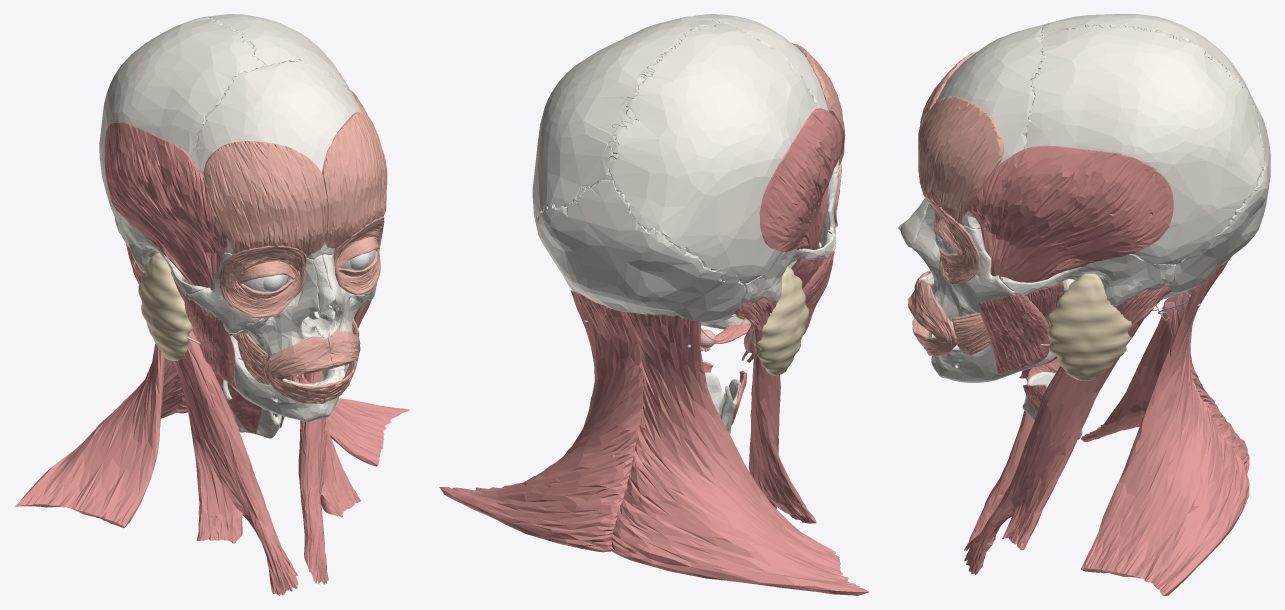
The model's file is modelD.glb.
3 views of the same model, side by side, from view 1: azimuth 30°, elevation 25°; view 2: azimuth 150°, elevation 25°; view 3: azimuth 270°, elevation 25° (orthographic). The views are drawn at different scales.
Visible parts, largest first — view 1: 颅骨·右顶骨, 颈肌·斜方肌降部(右), 咀嚼肌·颞肌(右), 面肌·额肌(右), 颈肌·胸锁乳突肌(右), 颅骨·额骨, 面肌·额肌(左), 颈肌·胸锁乳突肌(左), 面肌·口轮匝肌, 腺体·腮腺(右), 颅骨·左顶骨, 面肌·眼轮匝肌睑部(右) (+15 smaller); view 2: 颅骨·右顶骨, 颈肌·斜方肌降部(右), 颈肌·斜方肌降部(左), 颅骨·枕骨, 颅骨·左顶骨, 咀嚼肌·颞肌(右), 颈肌·胸锁乳突肌(右), 腺体·腮腺(右), 颅骨·额骨, 颅骨·右颞骨, 喉·甲状软骨, 面肌·额肌(右) (+2 smaller); view 3: 颅骨·左顶骨, 颈肌·斜方肌降部(左), 咀嚼肌·颞肌(左), 颈肌·胸锁乳突肌(左), 面肌·额肌(左), 颅骨·额骨, 腺体·腮腺(左), 颈肌·斜方肌降部(右), 颅骨·枕骨, 咀嚼肌·咬肌深部(左), 颅骨·左颞骨, 颅骨·右顶骨 (+12 smaller).
Boxes of the visible parts, x1,y1,x2,y2 form: 颅骨·右顶骨: (99, 17, 266, 219); 颈肌·斜方肌降部(右): (14, 328, 198, 528); 咀嚼肌·颞肌(右): (104, 122, 231, 335); 面肌·额肌(右): (203, 141, 327, 256); 颈肌·胸锁乳突肌(右): (126, 244, 298, 595); 颅骨·额骨: (190, 60, 362, 259); 面肌·额肌(左): (322, 111, 387, 249); 颈肌·胸锁乳突肌(左): (298, 371, 361, 584); 面肌·口轮匝肌: (262, 331, 360, 403); 腺体·腮腺(右): (138, 253, 192, 360); 颅骨·左顶骨: (198, 14, 359, 107); 面肌·眼轮匝肌睑部(右): (219, 245, 306, 318); 颅骨·右顶骨: (608, 22, 817, 283); 颈肌·斜方肌降部(右): (609, 312, 869, 595); 颈肌·斜方肌降部(左): (439, 290, 643, 552); 颅骨·枕骨: (535, 179, 745, 325); 颅骨·左顶骨: (532, 16, 718, 225); 咀嚼肌·颞肌(右): (759, 108, 841, 269); 颈肌·胸锁乳突肌(右): (733, 298, 816, 523); 腺体·腮腺(右): (750, 266, 809, 375); 颅骨·额骨: (693, 14, 839, 175); 颅骨·右颞骨: (733, 232, 834, 314); 喉·甲状软骨: (705, 372, 740, 433); 面肌·额肌(右): (791, 42, 845, 164); 颅骨·左顶骨: (1024, 24, 1265, 264); 颈肌·斜方肌降部(左): (1081, 257, 1249, 595); 咀嚼肌·颞肌(左): (968, 145, 1173, 282); 颈肌·胸锁乳突肌(左): (964, 286, 1171, 574); 面肌·额肌(左): (918, 96, 1003, 223); 颅骨·额骨: (936, 24, 1046, 229); 腺体·腮腺(左): (1046, 273, 1132, 380); 颈肌·斜方肌降部(右): (1081, 294, 1249, 473); 颅骨·枕骨: (1161, 110, 1270, 299); 咀嚼肌·咬肌深部(左): (978, 291, 1049, 373); 颅骨·左颞骨: (1000, 254, 1176, 306); 颅骨·右顶骨: (1041, 14, 1264, 124).
Bounding box in the file's own units: 25.48 × 31.33 × 19.72.
